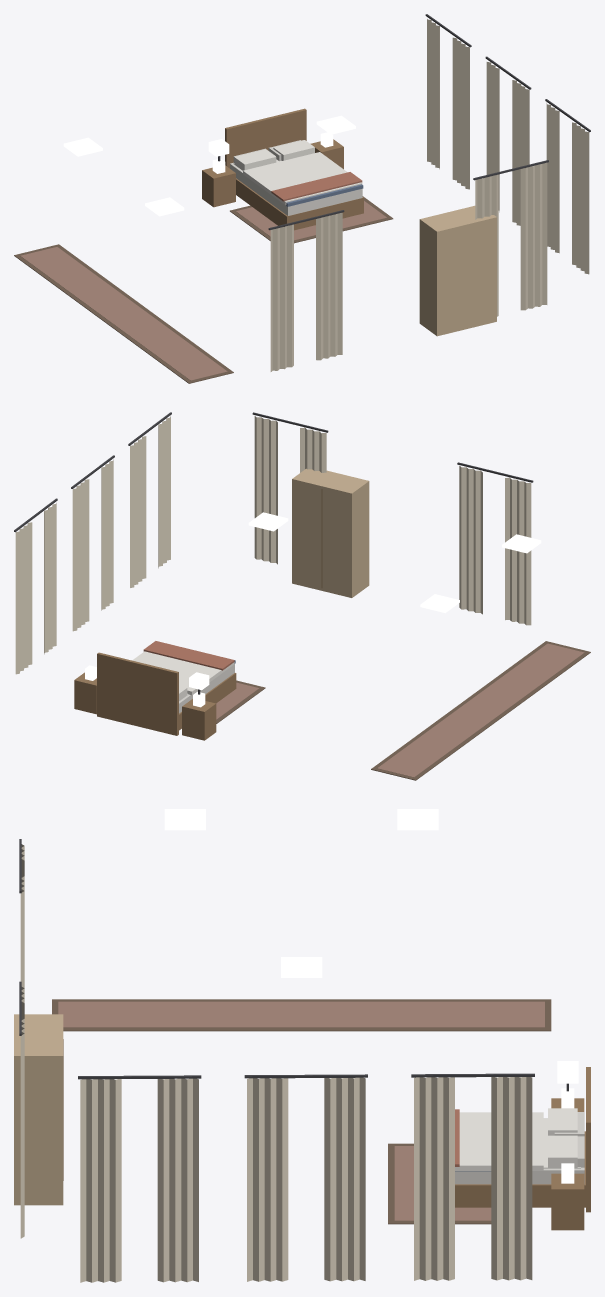
The model's file is fine-s2.glb.
3 views of the same model, one above another, from view 1: azimuth 30°, elevation 25°; view 2: azimuth 150°, elevation 25°; view 3: azimuth 270°, elevation 25° (orthographic). The views are drawn at different scales.
Parts seen in each view (by area): view 1: soft-s2, dresser.001, bed-frame.001, nightstand.002, nightstand.003, ceiling-lamp.005; view 2: soft-s2, dresser.001, bed-frame.001, nightstand.002, nightstand.003, ceiling-lamp.007, ceiling-lamp.006, ceiling-lamp.005; view 3: soft-s2, dresser.001, bed-frame.001, nightstand.003, ceiling-lamp.005, ceiling-lamp.006, ceiling-lamp.007.
Boxes of the visible parts, x1,y1,x2,y2 form: soft-s2: [14, 14, 590, 383]; dresser.001: [419, 205, 496, 336]; bed-frame.001: [225, 108, 363, 230]; nightstand.002: [202, 158, 235, 207]; nightstand.003: [310, 132, 343, 169]; ceiling-lamp.005: [63, 137, 102, 156]; soft-s2: [14, 412, 590, 780]; dresser.001: [292, 468, 369, 597]; bed-frame.001: [97, 652, 236, 735]; nightstand.002: [182, 691, 216, 740]; nightstand.003: [74, 665, 96, 714]; ceiling-lamp.007: [248, 512, 288, 531]; ceiling-lamp.006: [502, 534, 541, 553]; ceiling-lamp.005: [420, 594, 459, 613]; soft-s2: [19, 839, 580, 1282]; dresser.001: [14, 1014, 63, 1205]; bed-frame.001: [455, 1067, 590, 1212]; nightstand.003: [551, 1163, 584, 1230]; ceiling-lamp.005: [397, 809, 438, 830]; ceiling-lamp.006: [164, 809, 205, 830]; ceiling-lamp.007: [281, 957, 322, 977].
Bounding box in the file's own units: 8.23 × 2.81 × 7.01.
